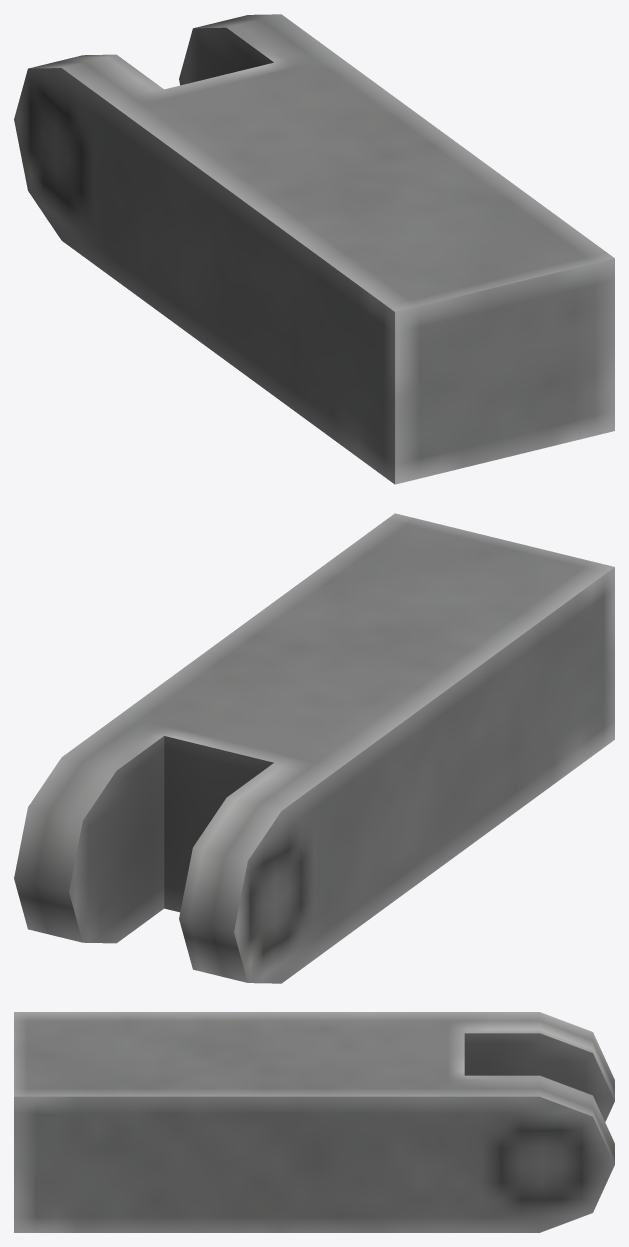
The model's file is 4mv_sensor_magnetometer_srf_1_base.obj.
3 views of the same model, one above another, from view 1: azimuth 30°, elevation 25°; view 2: azimuth 150°, elevation 25°; view 3: azimuth 270°, elevation 25° (orthographic). The views are drawn at different scales.
Parts seen in each view (by area): view 1: mesh1; view 2: mesh1; view 3: mesh1.
Boxes of the visible parts, x1=… form: mesh1: x1=14, y1=14, x2=614, y2=484; mesh1: x1=14, y1=513, x2=614, y2=983; mesh1: x1=14, y1=1012, x2=614, y2=1232.
Bounding box in the file's own units: 0.05 × 0.0375 × 0.15.
1 material, 1 textured.
